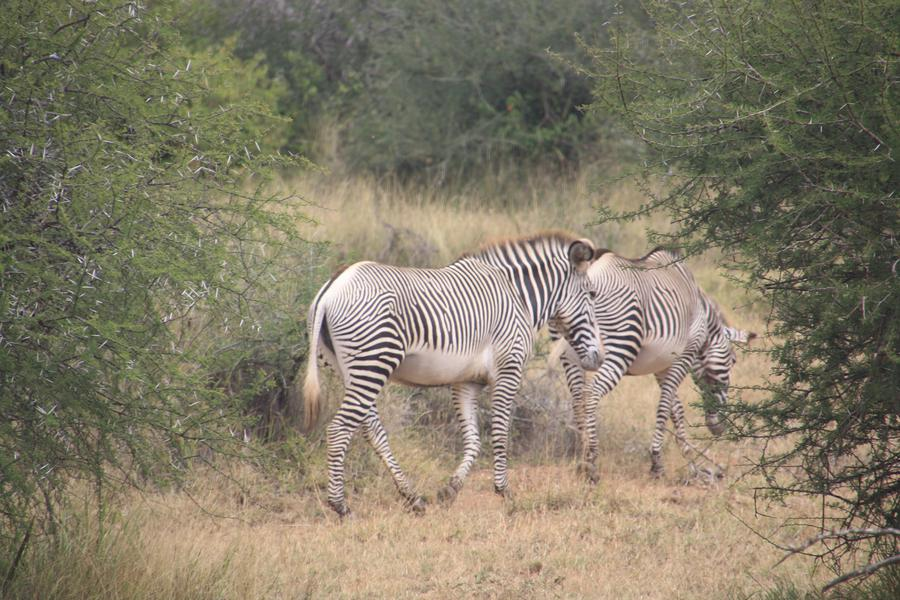zebra_grevys: (319, 255, 526, 372)
